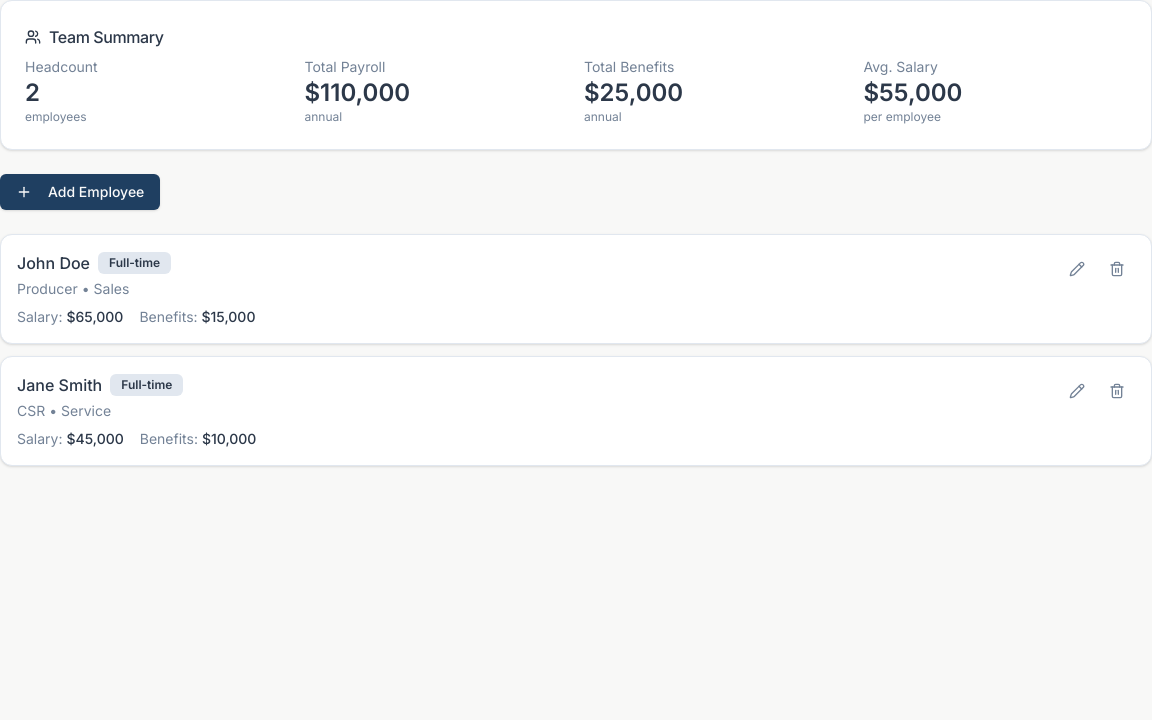
Test: EmployeeList › cancels delete when cancel is clicked in confirmation dialog
The width and height of the screenshot is (1152, 720).
Note: Click delete button
Click the button named "Delete employee" in the row of "Sales".
click(1117, 269)  # box x1=1099 y1=251 x2=1135 y2=287
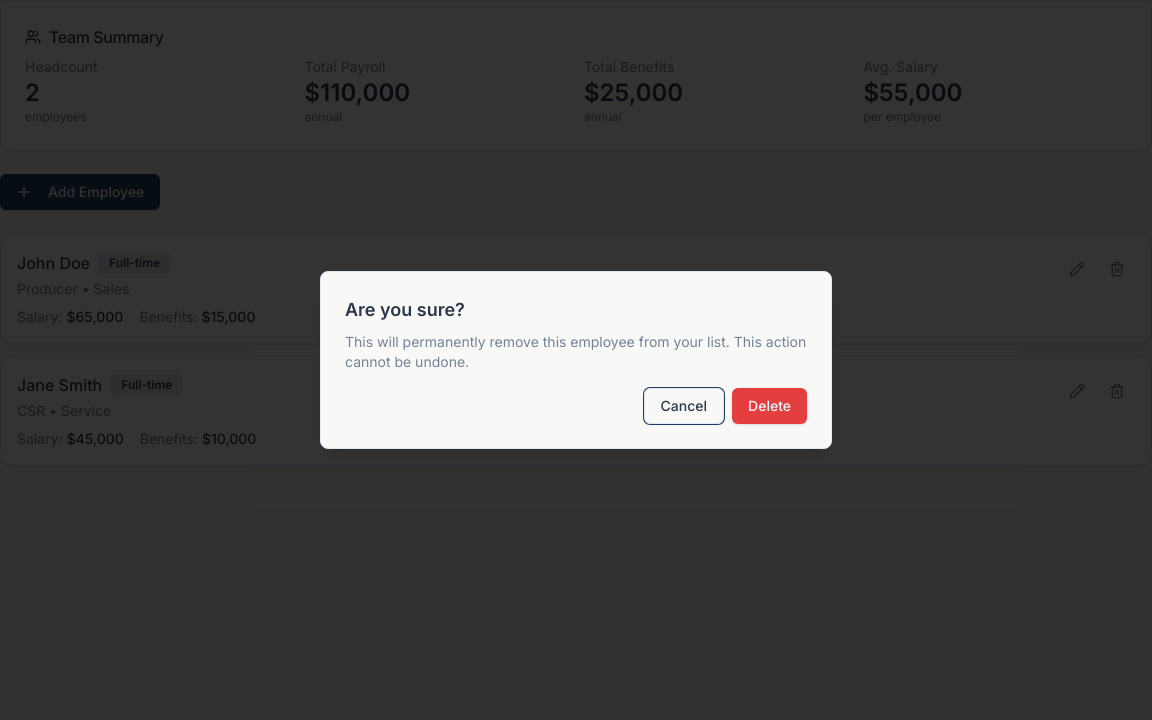
Result: the heading "Are you sure?" is shown at x1=345 y1=299 x2=465 y2=320
Note: Click cancel
Click the button "Cancel".
click(684, 406)  # box x1=644 y1=388 x2=724 y2=424
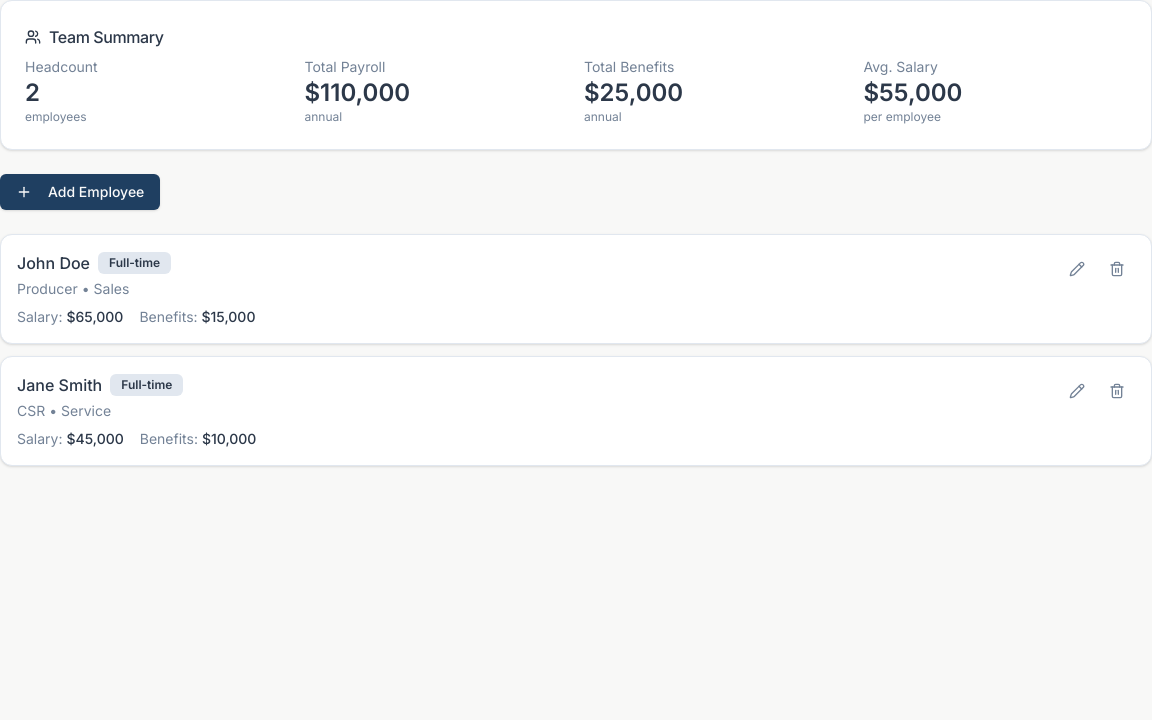
Result: the heading "Are you sure" is gone
